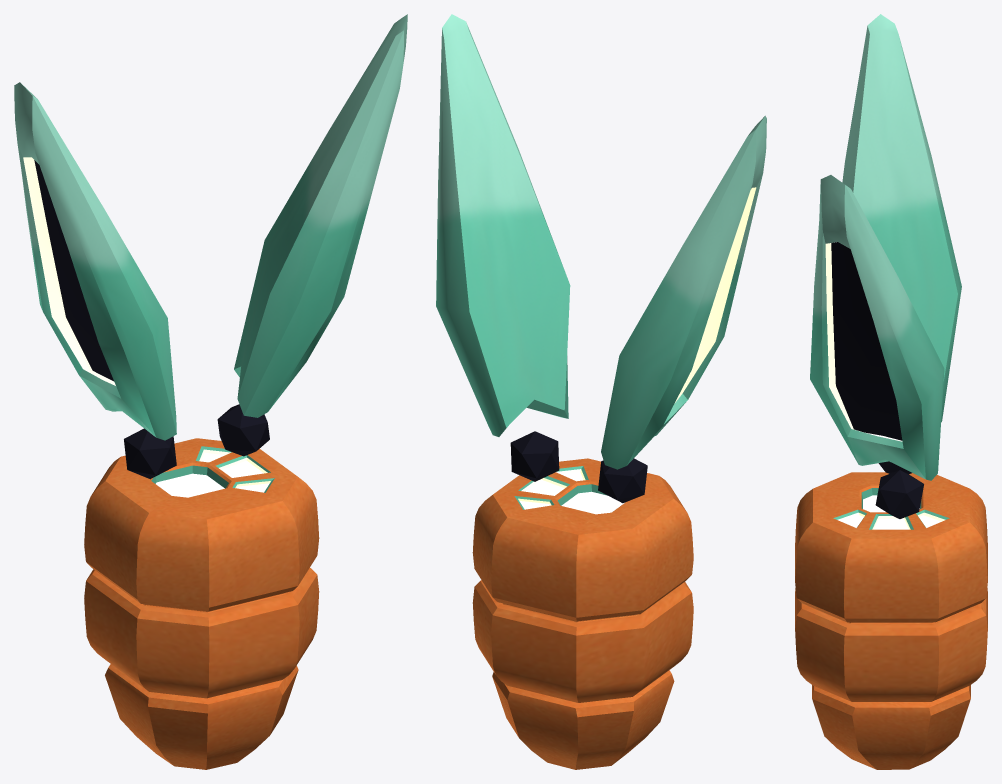
File: Bunn-1tCenoura.fbx
3 views of the same model, side by side, from view 1: azimuth 30°, elevation 25°; view 2: azimuth 150°, elevation 25°; view 3: azimuth 270°, elevation 25° (orthographic). The views are drawn at different scales.
Parts seen in each view (by area): view 1: PatasA, OrelhaB, OrelhaA, PatasB, Rabo; view 2: OrelhaA, PatasA, OrelhaB, PatasB, Rabo; view 3: OrelhaA, PatasA, OrelhaB, PatasB, Rabo.
Boxes of the visible parts, left/top/right/bottom form: PatasA: left=84, top=438, right=319, bottom=611; OrelhaB: left=14, top=82, right=176, bottom=479; OrelhaA: left=217, top=14, right=407, bottom=456; PatasB: left=84, top=568, right=319, bottom=698; Rabo: left=105, top=664, right=298, bottom=769; OrelhaA: left=436, top=14, right=570, bottom=481; PatasA: left=472, top=458, right=693, bottom=621; OrelhaB: left=598, top=115, right=766, bottom=503; PatasB: left=472, top=580, right=693, bottom=702; Rabo: left=492, top=670, right=674, bottom=769; OrelhaA: left=810, top=175, right=944, bottom=518; PatasA: left=795, top=472, right=987, bottom=622; OrelhaB: left=842, top=14, right=961, bottom=473; PatasB: left=795, top=588, right=987, bottom=701; Rabo: left=812, top=685, right=970, bottom=769.
Size of the model in its own units: 10.11 by 19.23 by 5.09.
